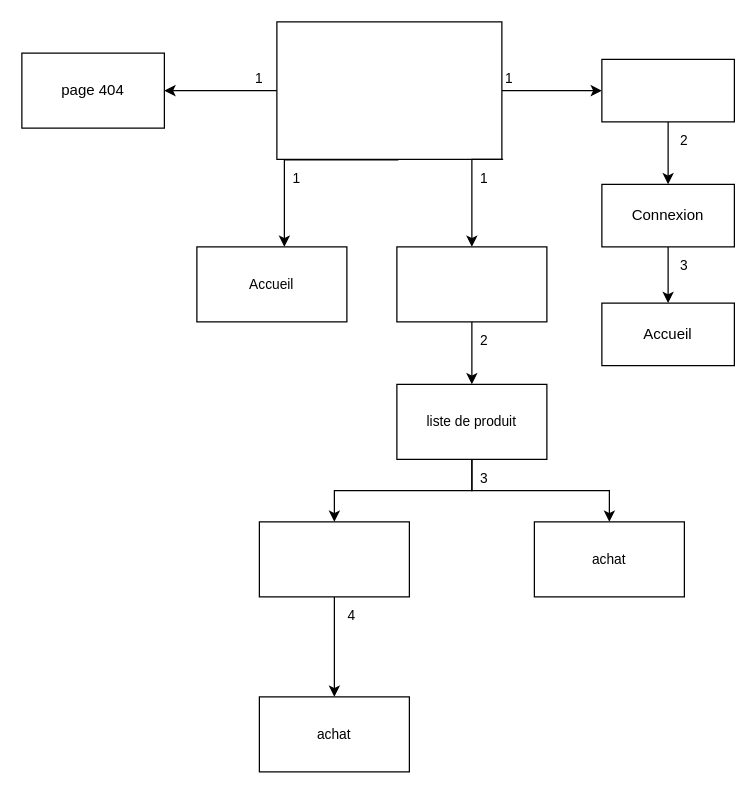
This 756x794 diagram has some shape labels left out. The centre of each missing label's shape, as x and y in pixels:
"détails" belongs at pixel 333 559.
"Inscription" belongs at pixel 667 90.
"Poudlard Shop" belongs at pixel 389 90.
"Produit" belongs at pixel 471 284.
